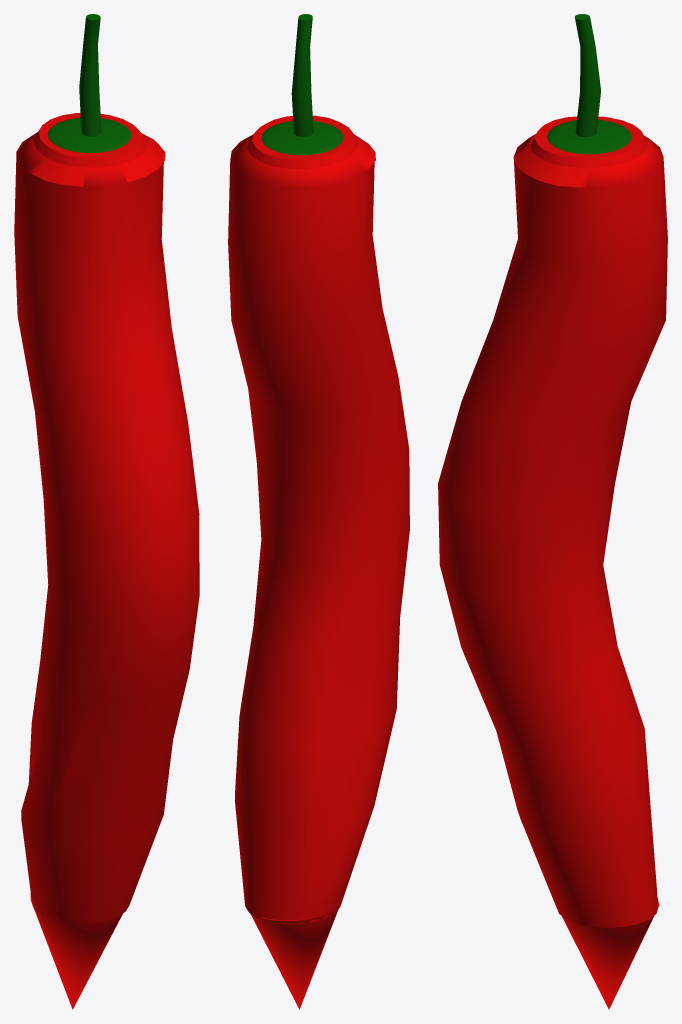
File: Spicymeme.fbx
3 views of the same model, side by side, from view 1: azimuth 30°, elevation 25°; view 2: azimuth 150°, elevation 25°; view 3: azimuth 270°, elevation 25° (orthographic).
Parts seen in each view (by area): view 1: pCylinder1, pCone1, pCylinder2, pSphere1; view 2: pCylinder1, pCone1, pCylinder2, pSphere1; view 3: pCylinder1, pCone1, pCylinder2, pSphere1.
Part boxes in pixels (x1,y1,x2,y2): pCylinder1: (14, 113, 199, 923); pCone1: (30, 893, 122, 1009); pCylinder2: (79, 14, 101, 136); pSphere1: (48, 117, 131, 152); pCylinder1: (228, 115, 409, 924); pCone1: (250, 904, 340, 1009); pCylinder2: (291, 14, 313, 136); pSphere1: (261, 121, 343, 155); pCylinder1: (438, 116, 667, 927); pCone1: (562, 898, 659, 1009); pCylinder2: (574, 14, 600, 137); pSphere1: (547, 120, 631, 154).
Bounding box in the file's own units: 1.63 × 12.21 × 2.55.
